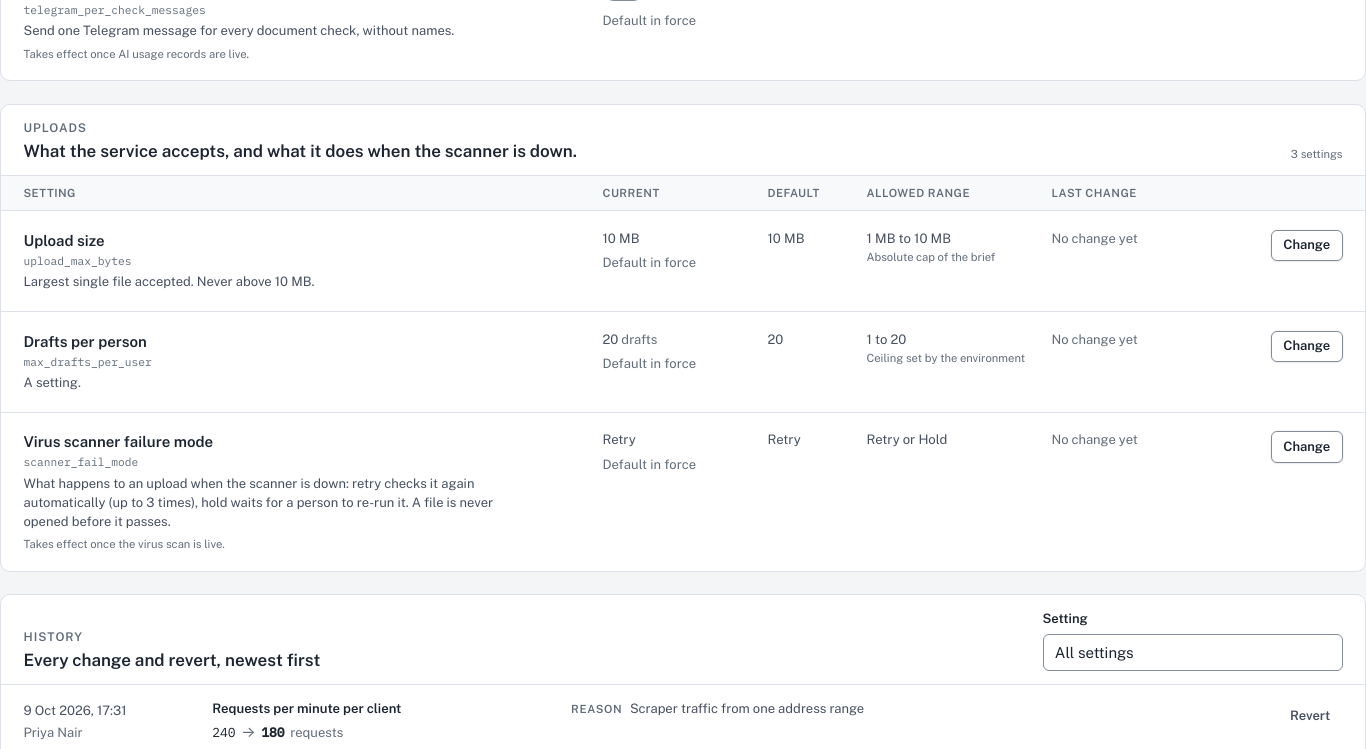
admin settings page (US-101) › the change dialog › puts the server bound sentence under the new value
The width and height of the screenshot is (1366, 749).
(page scrolled)
Click the button with aria-label "Change Drafts per person".
click(1307, 346)  # box [1271,330,1342,362]
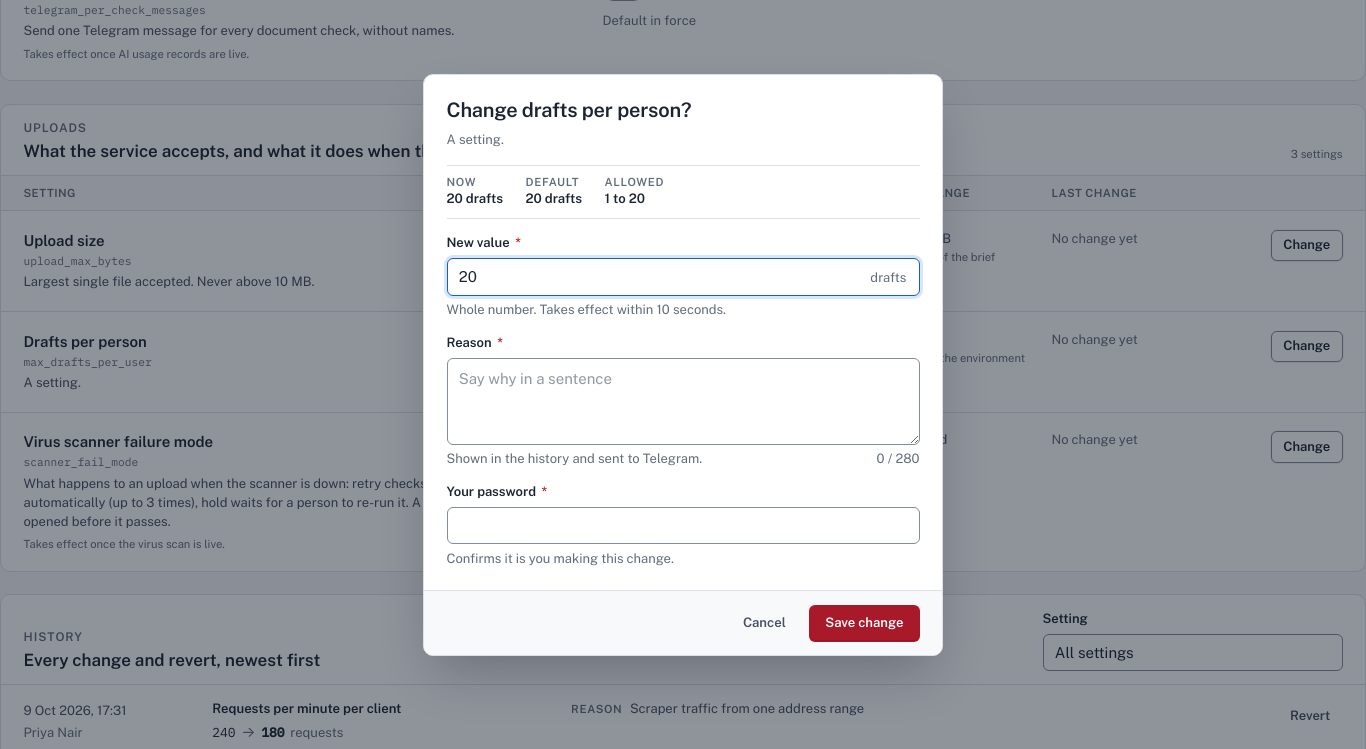
Replace the text in the field labelled "New value *" with "12" at (683, 277), box [446,258,920,296]
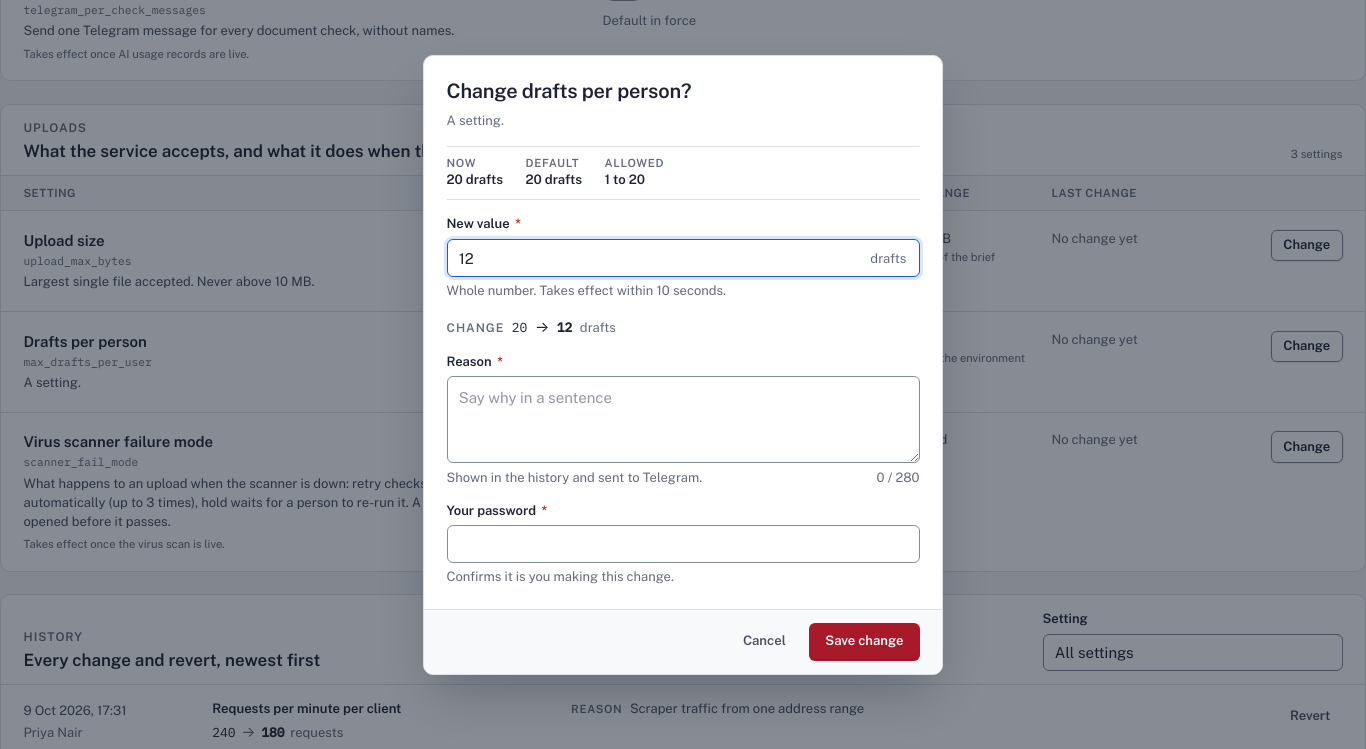
Type "Branch office" into the text box labelled "Reason *".
click(683, 420); type("Branch office")  # box [446,376,920,463]
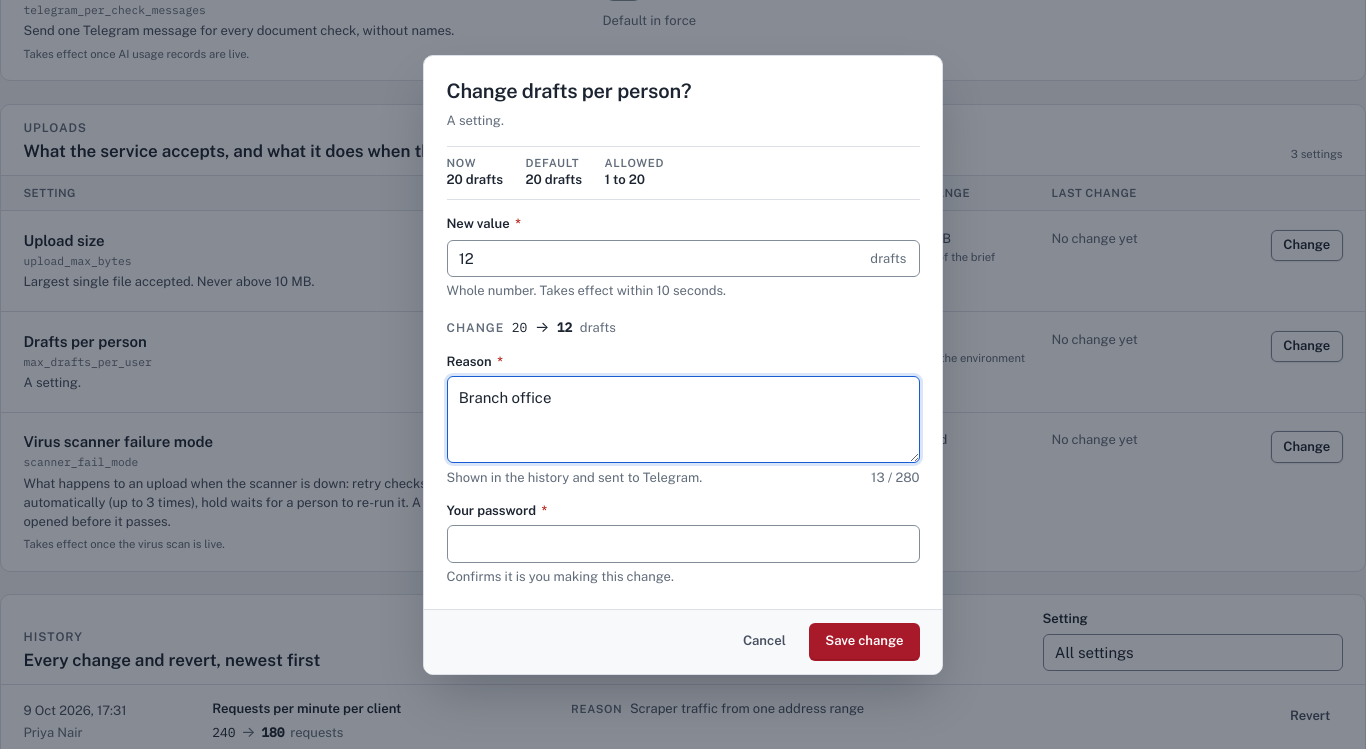
Type "Admin-Own-Pass-1" into the password field labelled "Your password *".
click(683, 544); type("Admin-Own-Pass-1")  # box [446,525,920,563]
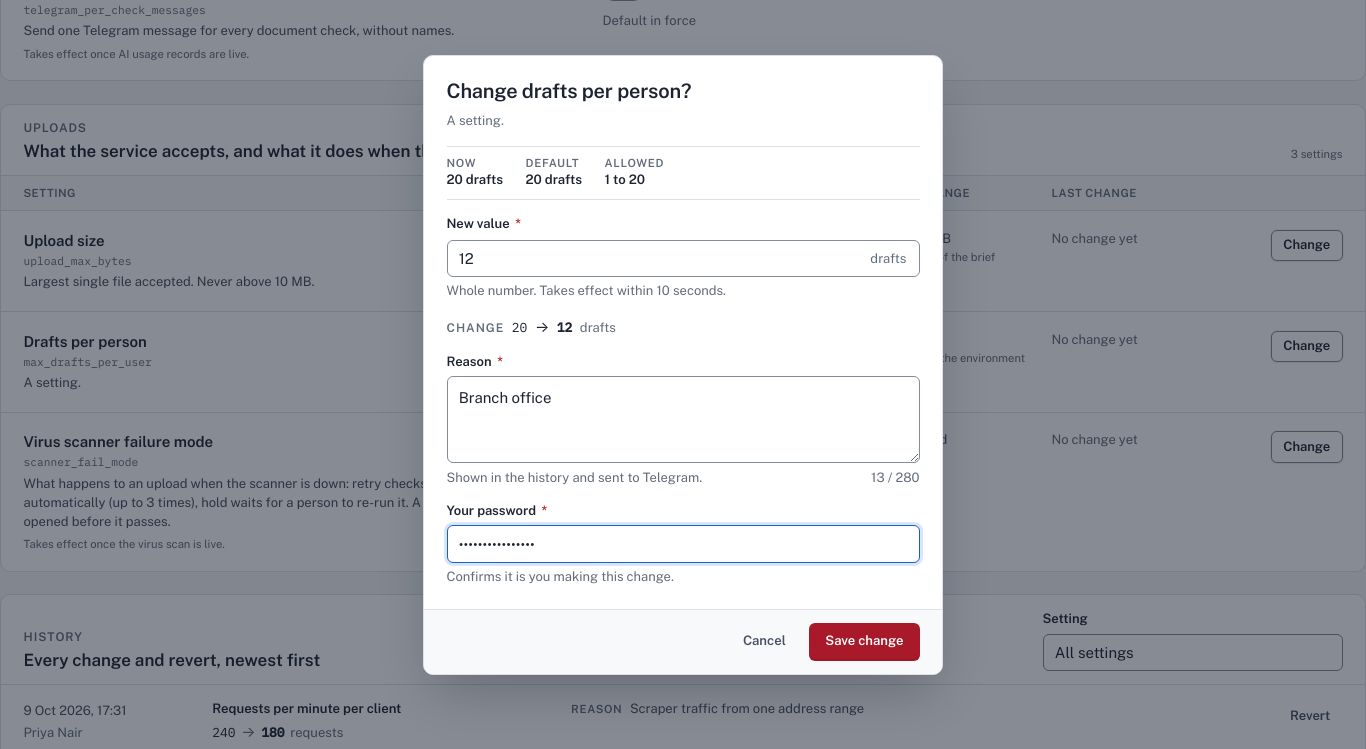
Click the button "Save change".
click(864, 642)  # box [809,623,920,660]
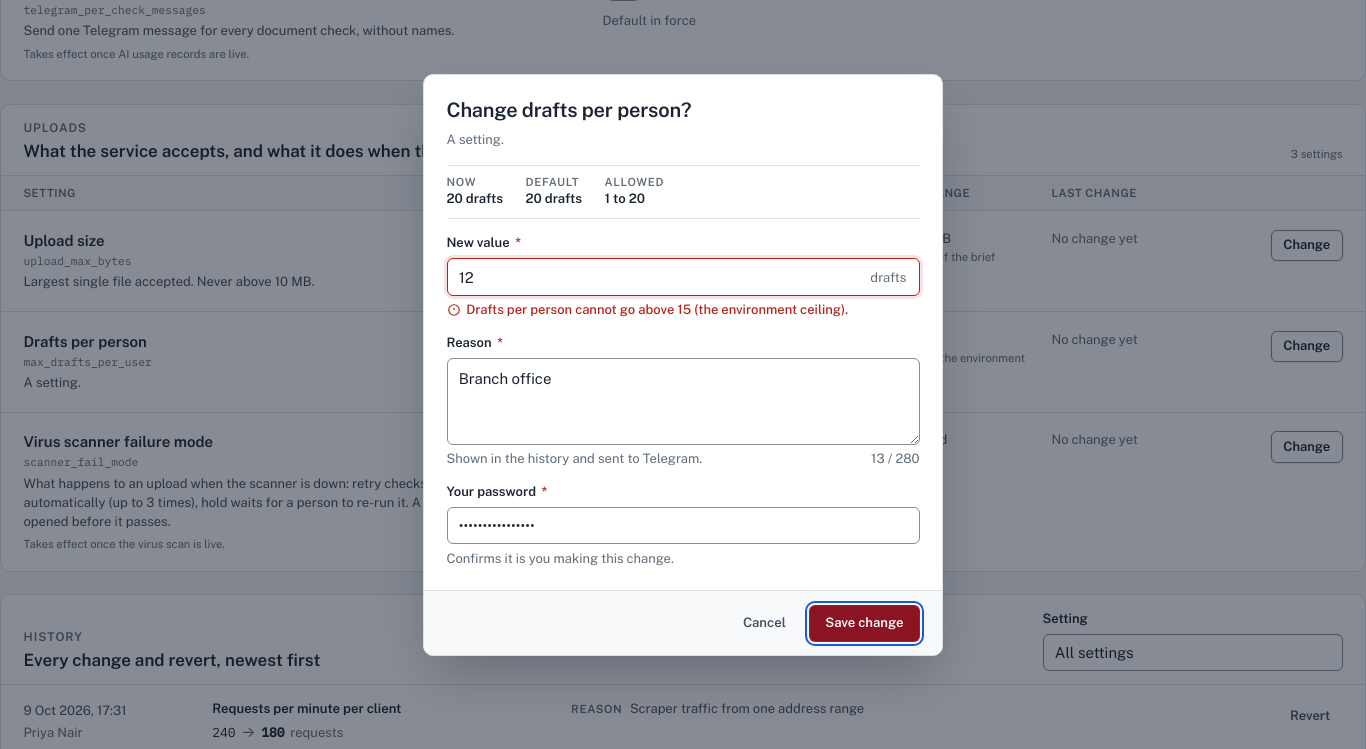
Check: the text "Drafts per person cannot go above 15 (the environment ceiling)." is shown, box [466,301,848,319]
